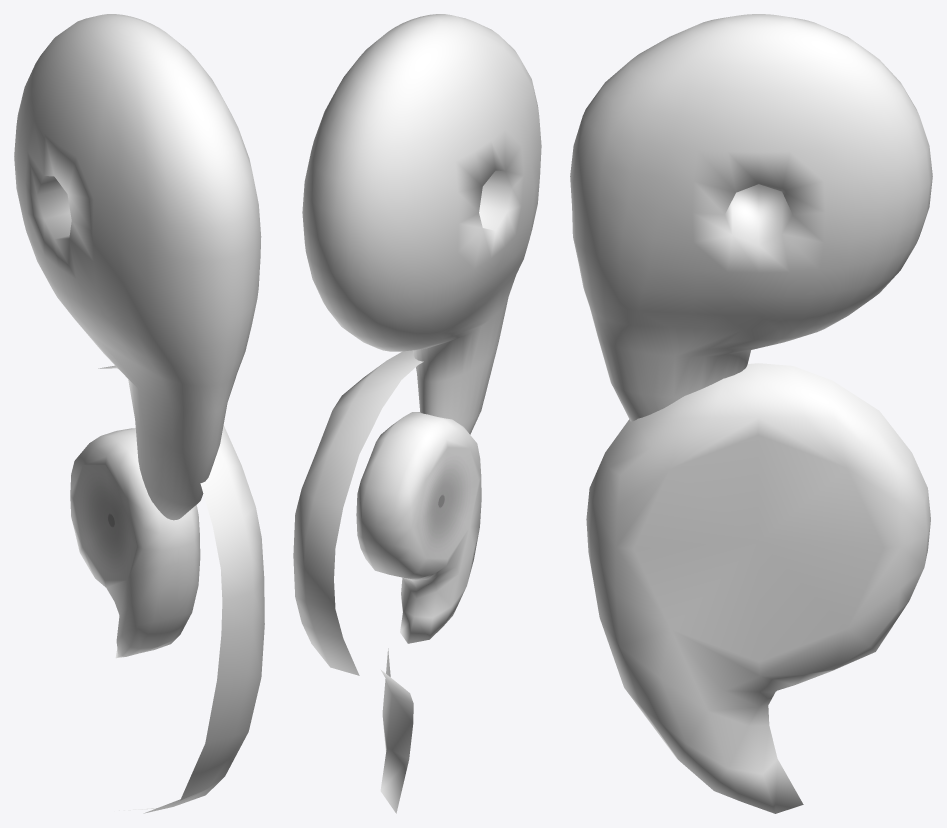
File: magatama.glb
The picture shows the model from 3 angles, left to right: view 1: azimuth 30°, elevation 25°; view 2: azimuth 150°, elevation 25°; view 3: azimuth 270°, elevation 25°; orthographic projection. The views are drawn at different scales.
Parts seen in each view (by area): view 1: Cylinder_001, Cube, Cube_001; view 2: Cylinder_001, Cube, Cube_001; view 3: Cylinder_001, Cube_001.
Boxes of the visible parts, x1,y1,x2,y2 form: Cylinder_001: (14,14,261,520); Cube: (70,428,200,658); Cube_001: (98,365,264,813); Cylinder_001: (302,14,541,434); Cube: (356,412,481,643); Cube_001: (293,350,423,813); Cylinder_001: (570,14,932,421); Cube_001: (586,363,930,813).
Size of the model in its own units: 1.05 by 4.98 by 2.08.
3 materials, 1 textured.
